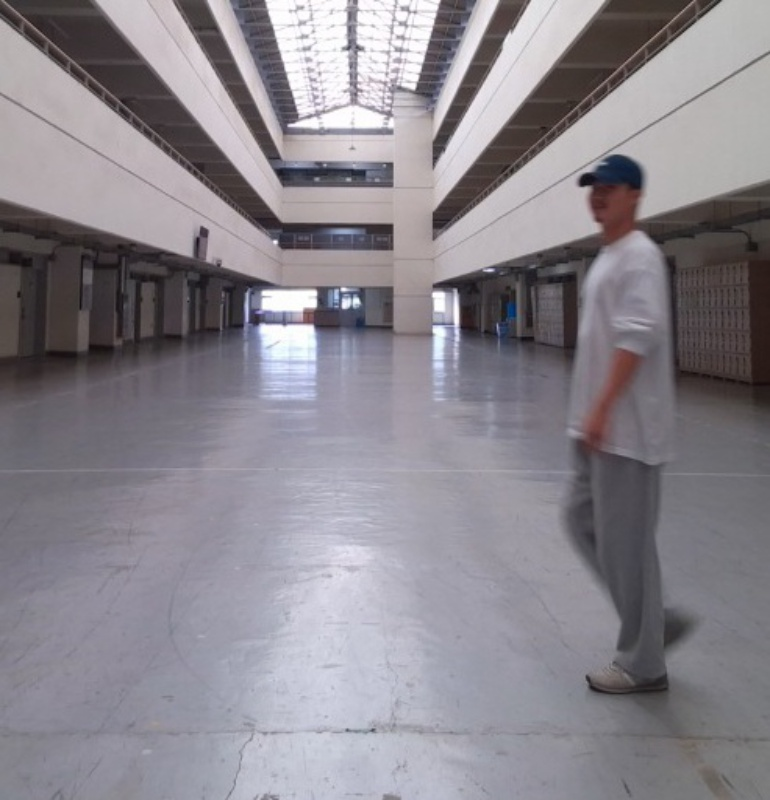person: (561, 153, 702, 694)
